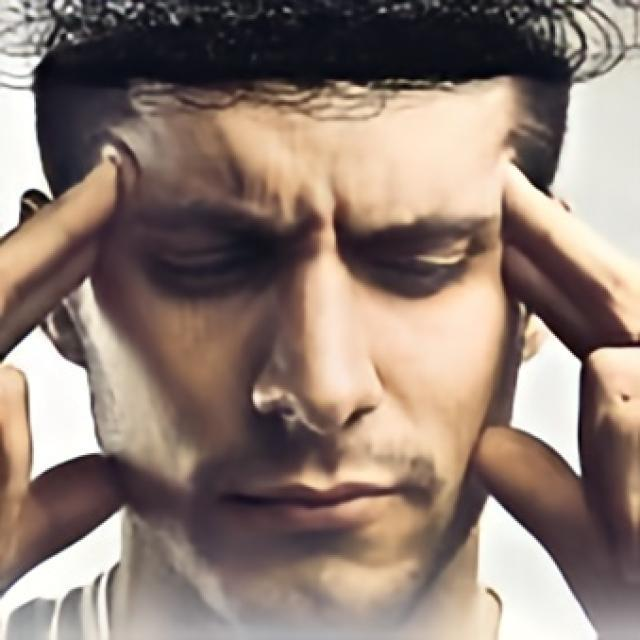anger: (108, 55, 508, 591)
